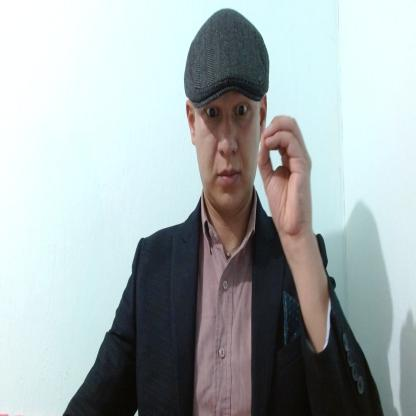O: (258, 111, 314, 237)
